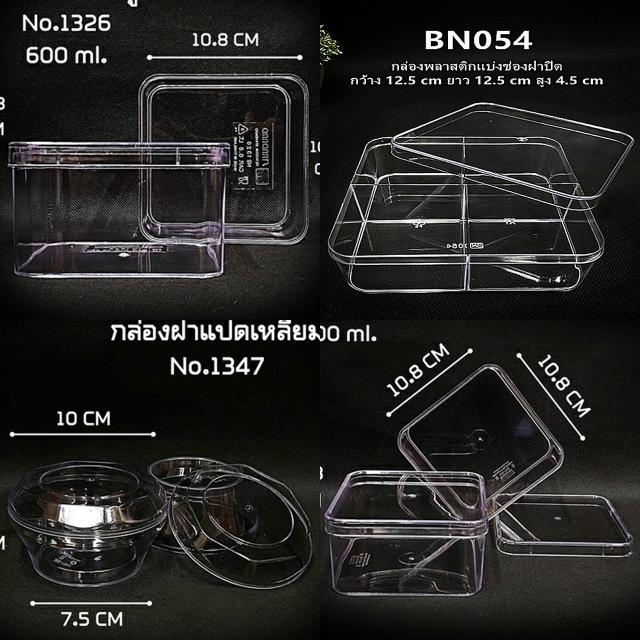Single-Use-Plastic: (329, 104, 632, 292), (9, 142, 230, 278), (140, 75, 309, 244), (398, 365, 564, 518), (325, 470, 488, 596), (8, 461, 166, 588), (169, 464, 312, 589), (494, 494, 632, 557)
